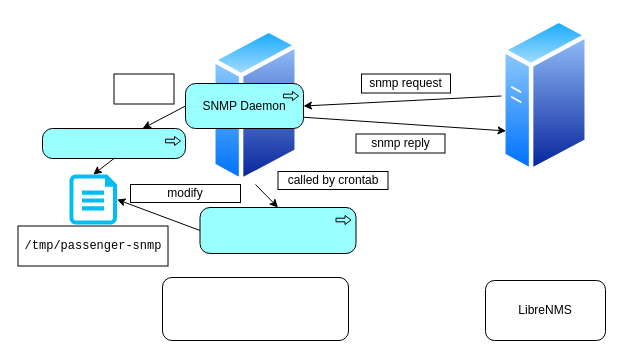
This 623x358 diagram has some shape labels left out. Here are the shapes that lost their labels. From the top down, the centre of each, then its label:
At point 143,88: "call".
At point 114,143: "/bin/cat".
At point 277,230: "passenger-monitor.py".
At point 255,308: "Machine being monitored".
